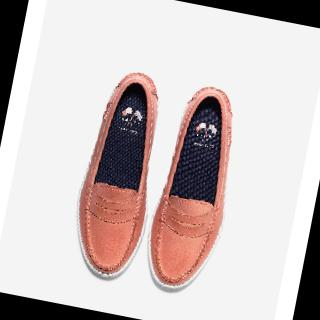loafers: (58, 58, 250, 308)
